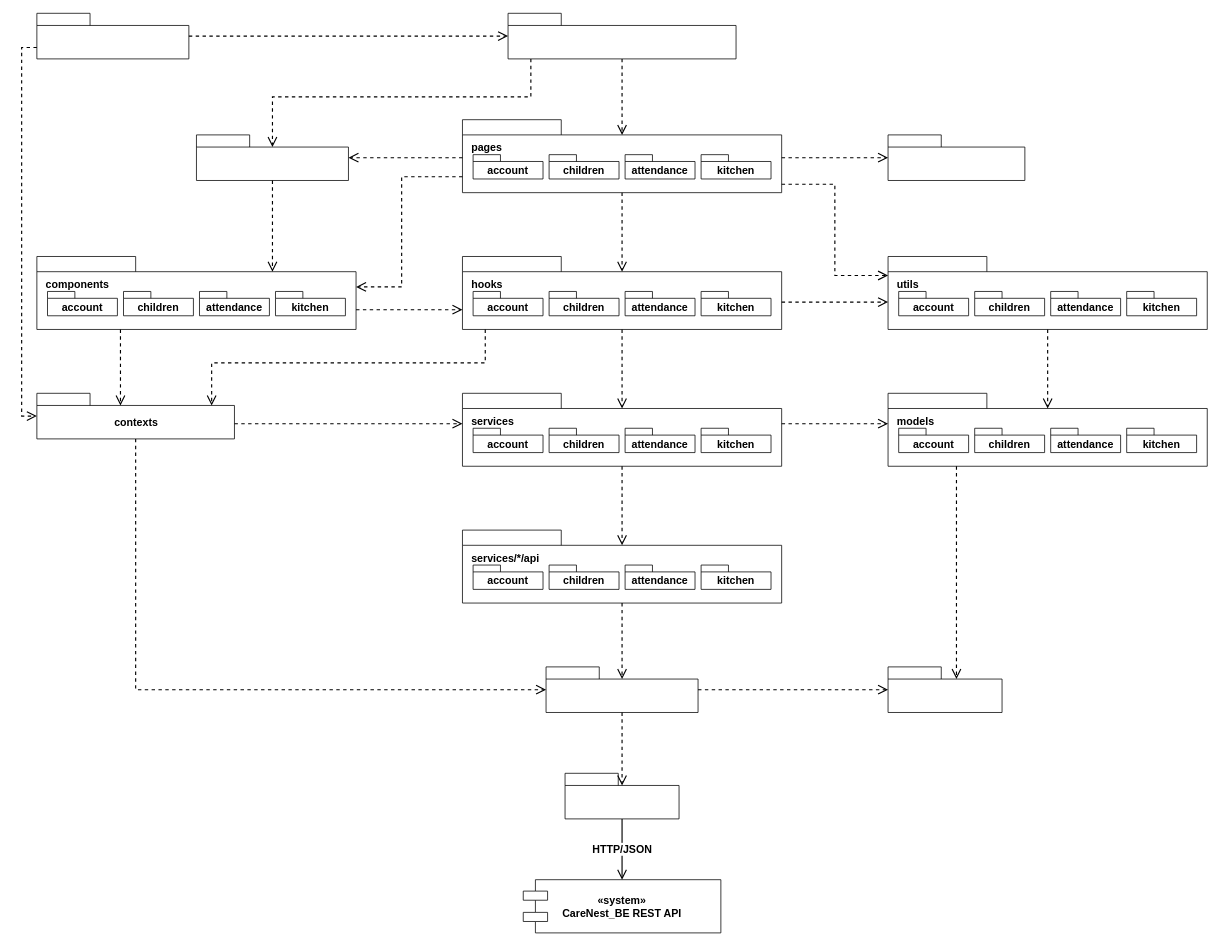
Some shapes in this 1221 by 946 pixel diagram are drawn without their labels. The shapes that lost their labels are listed below. From the top down, each one's centre as x and y in pixels, then its label:
At pixel 112 36: "src (root)".
At pixel 621 36: "routes".
At pixel 272 157: "layouts".
At pixel 956 157: "styles · assets".
At pixel 621 689: "services/http".
At pixel 944 689: "config".
At pixel 621 796: "«npm» axios".
